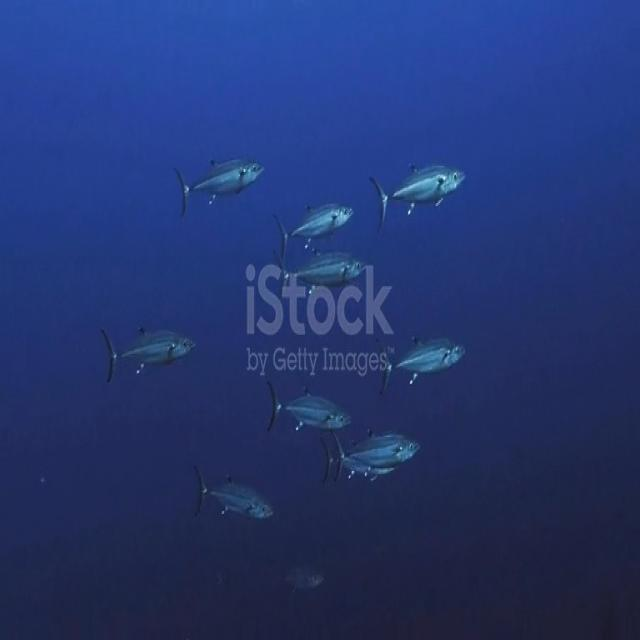fish: (369, 160, 472, 232), (188, 457, 276, 530), (102, 320, 197, 382), (265, 373, 355, 437), (375, 335, 470, 392), (176, 157, 266, 215), (333, 422, 424, 478), (277, 243, 371, 296), (276, 202, 359, 256)
